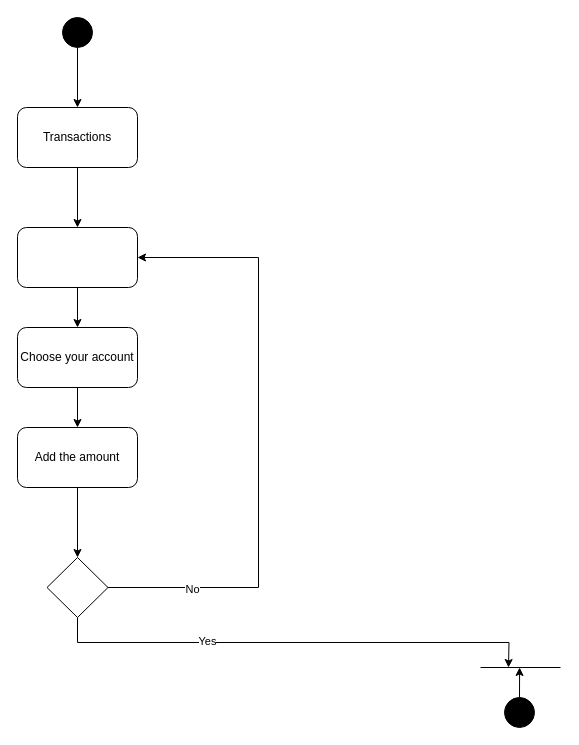
The diagram is 579 pixels wide and 745 high, and some of its shapes have lost their labels. The box of each missing label's shape, as (x1, y1, x2, y2) in pixels:
Pay bills: (16, 226, 138, 288)
Succes: (46, 556, 108, 618)
